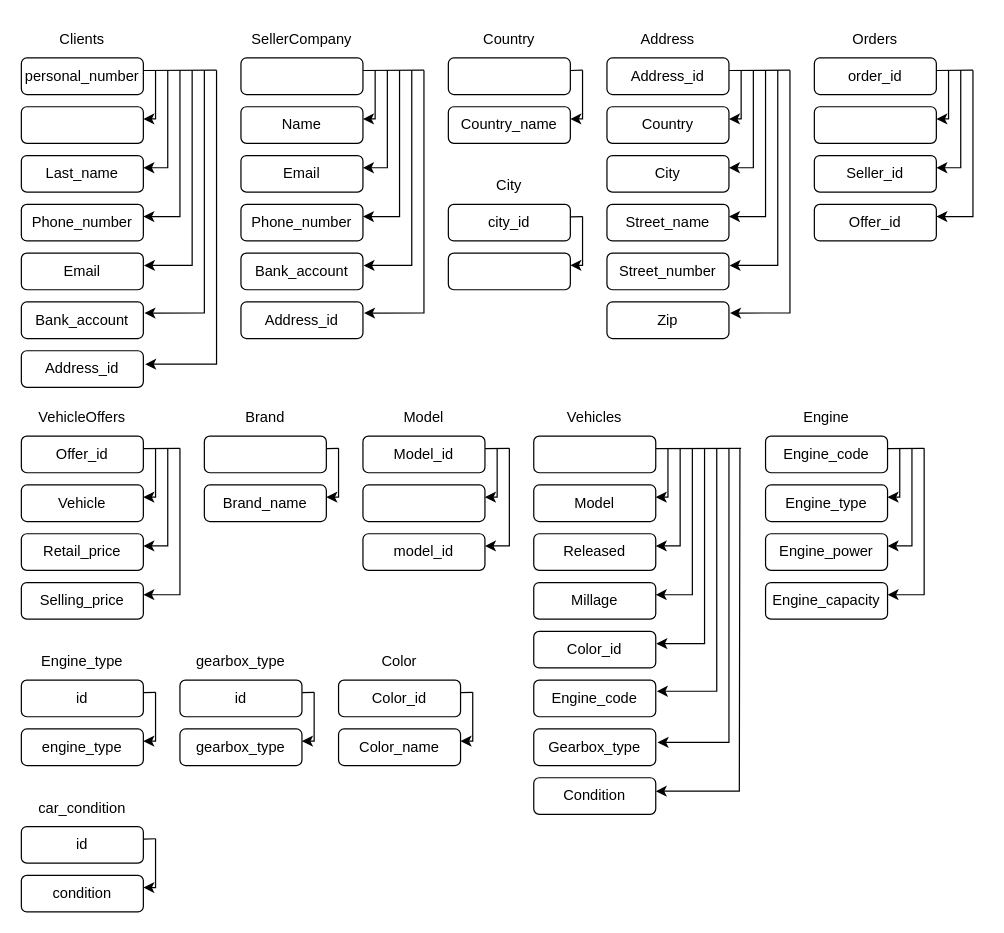
The diagram is 1004 pixels wide and 933 high, and some of its shapes have lost their labels. Each missing label, with the box of its shape:
brand_id: (203, 435, 326, 473)
City_name: (447, 252, 570, 290)
Client_id: (813, 106, 936, 143)
country_id: (447, 57, 570, 95)
First_name: (20, 106, 143, 143)
Model_name: (362, 484, 485, 522)
registration_number: (240, 57, 363, 95)
Vehicle_id: (533, 435, 656, 473)
